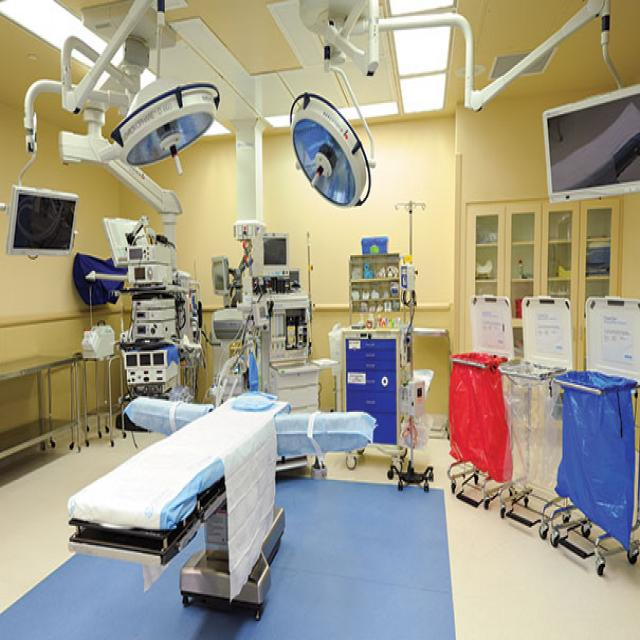cardiac_monitor: (532, 108, 640, 206), (20, 176, 87, 278)
lightings: (287, 110, 369, 209), (124, 108, 217, 186)
patient_bed: (84, 391, 301, 569)
ventilator: (224, 218, 307, 368)
